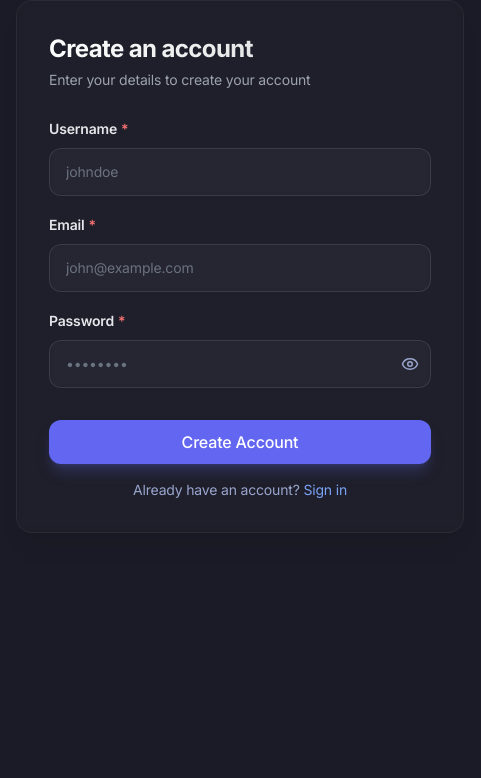
it: Authentication Flow Integration › Registration Flow › should validate password complexity
// Type weak password
Type "weakpass" into the password field with placeholder "••••••••" at coordinates (240, 364), box [49, 340, 431, 388]
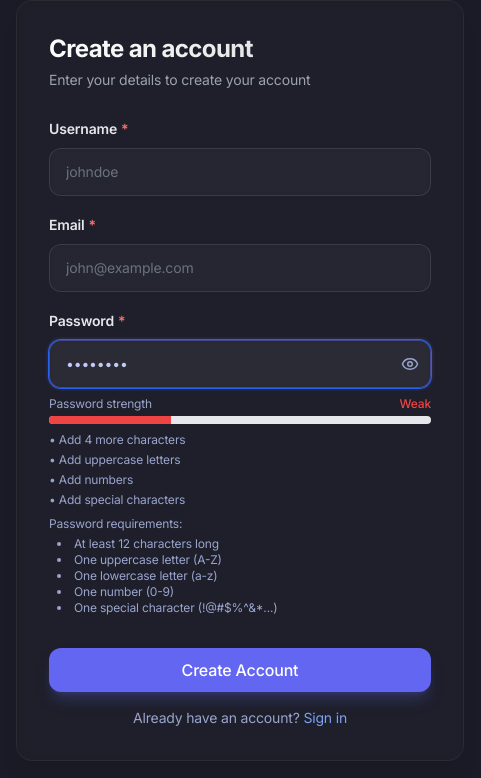
Click the button "Create Account" at coordinates (240, 670), box [49, 648, 431, 692]
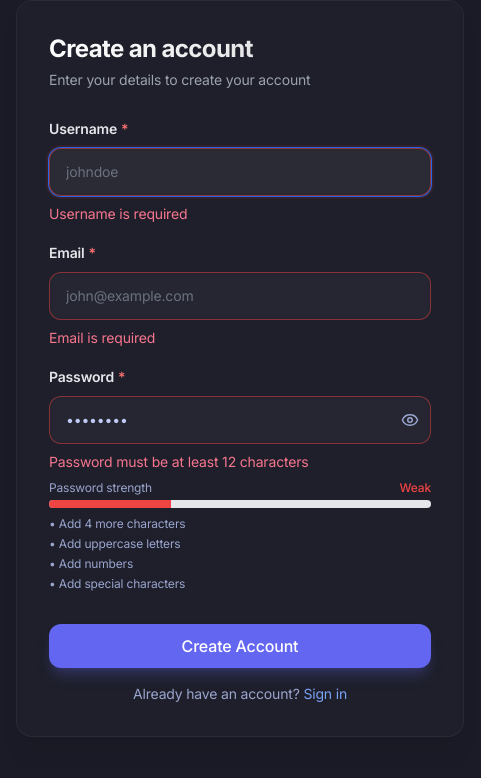
Now the text "Password must be at least 12 characters" is shown, box [49, 453, 308, 470]
